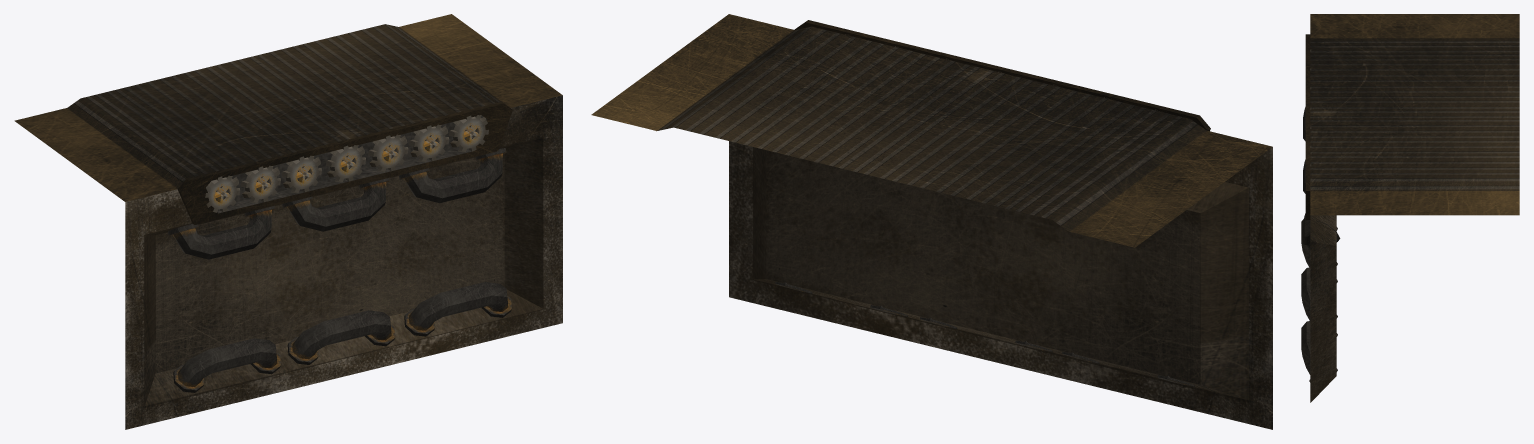
The model's file is floor.fbx.
3 views of the same model, side by side, from view 1: azimuth 30°, elevation 25°; view 2: azimuth 150°, elevation 25°; view 3: azimuth 270°, elevation 25° (orthographic). The views are drawn at different scales.
Visible parts, largest first — view 1: pCube34, pCylinder9, pCylinder7, pCylinder8, pCylinder4, pCylinder6, pCylinder5, pPipe24, pPipe25, pPipe23, pPipe22, pPipe21 (+2 smaller); view 2: pCube34; view 3: pCube34, pCylinder9, pCylinder8, pCylinder6.
Boxes of the visible parts, bbox=[...] form: pCube34: bbox=[14, 14, 562, 429]; pCylinder9: bbox=[404, 282, 511, 336]; pCylinder7: bbox=[173, 338, 280, 392]; pCylinder8: bbox=[287, 310, 395, 364]; pCylinder4: bbox=[168, 205, 275, 259]; pCylinder6: bbox=[399, 148, 506, 203]; pCylinder5: bbox=[282, 178, 389, 231]; pPipe24: bbox=[368, 134, 408, 171]; pPipe25: bbox=[409, 124, 449, 161]; pPipe23: bbox=[326, 145, 365, 182]; pPipe22: bbox=[282, 155, 321, 192]; pPipe21: bbox=[241, 165, 280, 202]; pCube34: bbox=[591, 14, 1272, 429]; pCube34: bbox=[1305, 14, 1519, 402]; pCylinder9: bbox=[1301, 321, 1337, 382]; pCylinder8: bbox=[1301, 267, 1337, 320]; pCylinder6: bbox=[1303, 213, 1340, 251].
Bounding box in the file's own units: 16 × 8.25 × 7.34.
